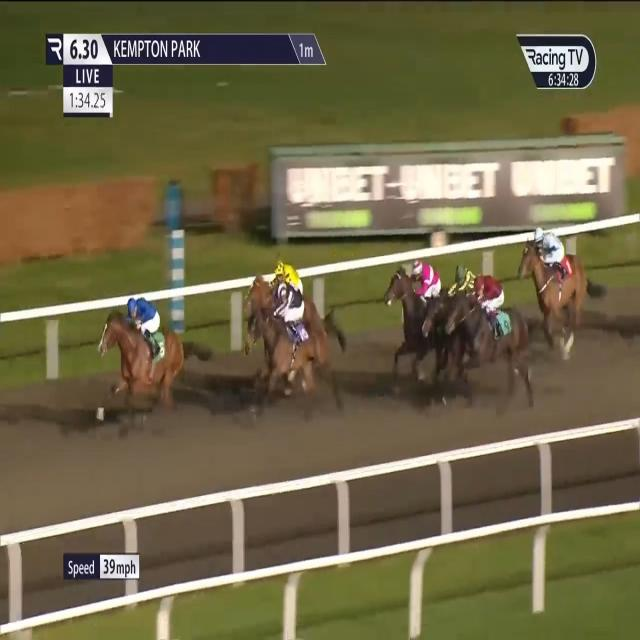horses-racing: (238, 286, 343, 398), (98, 300, 204, 410), (518, 227, 597, 352), (449, 269, 527, 391), (387, 256, 450, 366), (242, 257, 322, 329), (428, 262, 484, 360)
